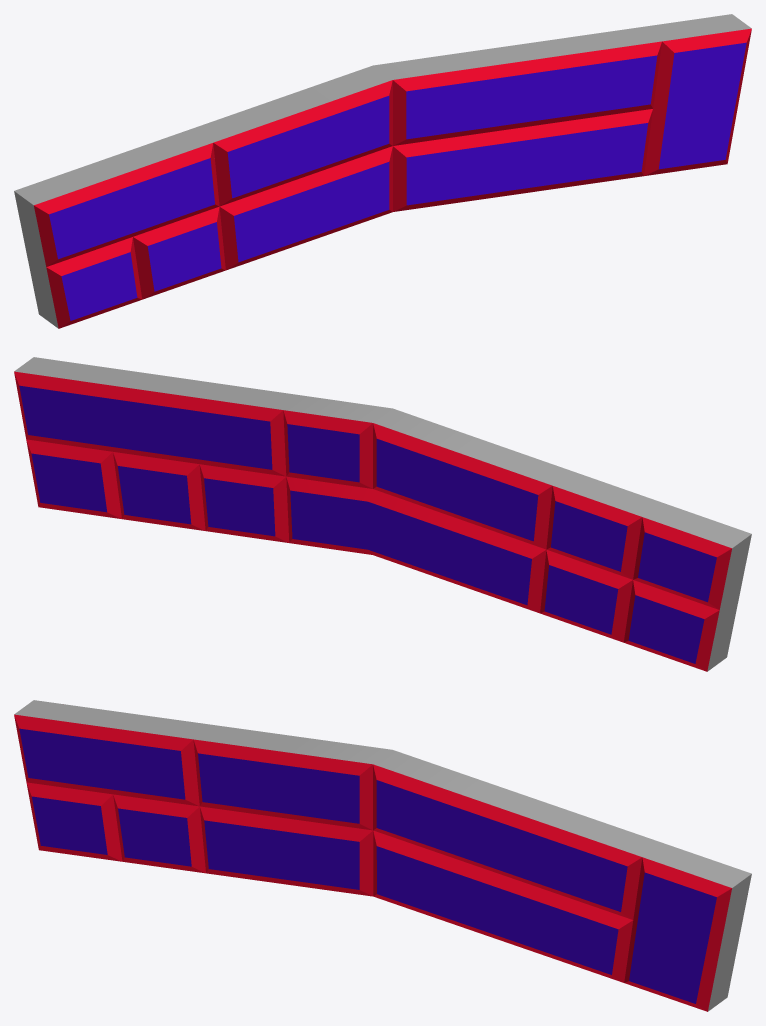
Rendered from Ms_Mur_Scifi02.fbx.
3 renders of one model, top to bottom at view 1: azimuth 30°, elevation 25°; view 2: azimuth 150°, elevation 25°; view 3: azimuth 330°, elevation 25°, orthographic.
Parts seen in each view (by area): view 1: Mur15, Mur14; view 2: Mur15, Mur14; view 3: Mur15, Mur14.
Part boxes in pixels (x1,y1,x2,y2): Mur15: (34, 28, 751, 328); Mur14: (14, 14, 751, 328); Mur15: (14, 371, 731, 671); Mur14: (14, 357, 751, 671); Mur15: (14, 714, 731, 1011); Mur14: (14, 700, 751, 1011).
Bounding box in the file's own units: 0.4189 × 0.0933 × 0.03.
